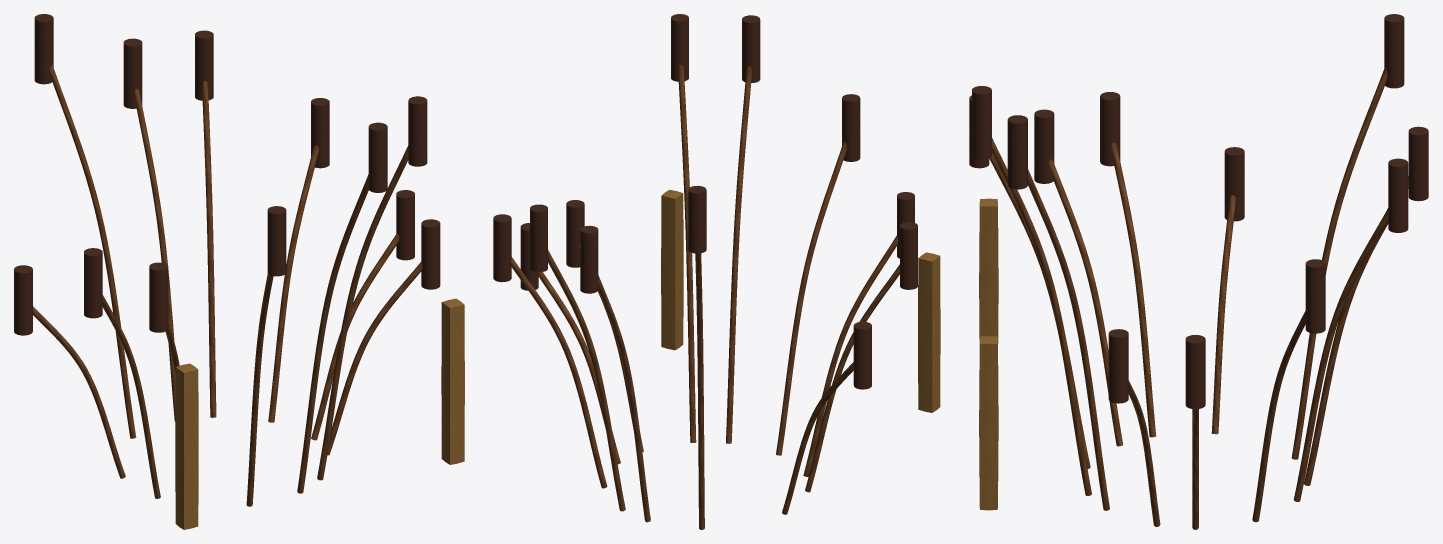
The picture shows the model from 3 angles, left to right: view 1: azimuth 30°, elevation 25°; view 2: azimuth 150°, elevation 25°; view 3: azimuth 270°, elevation 25°; orthographic projection. The views are drawn at different scales.
Parts seen in each view (by area): view 1: brass.24, brass.25, wood.14, wood.6, wood.20, wood.22, wood.10, wood.4, wood.12, wood.16, wood.18, leather.7 (+13 smaller); view 2: brass.24, brass.25, wood.22, wood.6, wood.12, wood.14, wood.20, wood.10, wood.4, wood.2, wood.18, leather.5 (+13 smaller); view 3: brass.25, brass.24, wood.22, wood.6, wood.14, wood.20, wood.18, wood.2, wood.8, wood.4, wood.10, leather.17 (+13 smaller).
Boxes of the visible parts, x1,y1,x2,y2 form: brass.24: (175,363,198,529); brass.25: (441,298,464,464); wood.14: (50,64,136,438); wood.6: (317,145,408,480); wood.20: (202,81,216,417); wood.22: (297,174,368,493); wood.10: (268,145,318,422); wood.4: (134,88,175,421); wood.12: (246,273,273,506); wood.16: (327,262,422,455); wood.18: (102,295,160,498); leather.7: (408,96,427,166); brass.24: (918,252,940,412); brass.25: (661,189,683,350); wood.22: (726,66,751,443); wood.6: (678,64,696,442); wood.12: (776,141,846,455); wood.14: (695,253,704,529); wood.20: (548,250,625,511); wood.10: (511,257,607,488); wood.4: (598,275,650,522); wood.2: (803,235,898,476); wood.18: (805,264,899,492); leather.5: (580,225,598,293); brass.25: (979,336,998,510); brass.24: (979,198,998,343); wood.22: (992,138,1091,495); wood.6: (1028,169,1109,510); wood.14: (1291,67,1387,459); wood.20: (1293,208,1388,501); wood.18: (1111,142,1156,437); wood.2: (1048,159,1123,446); wood.8: (1211,195,1236,434); wood.4: (1304,176,1408,485); wood.10: (1252,311,1305,522); leather.17: (1108,329,1128,403).
Bounding box in the file's own units: 0.8299 × 0.8269 × 0.8207.
Materials: 3 (3 with a texture image).
